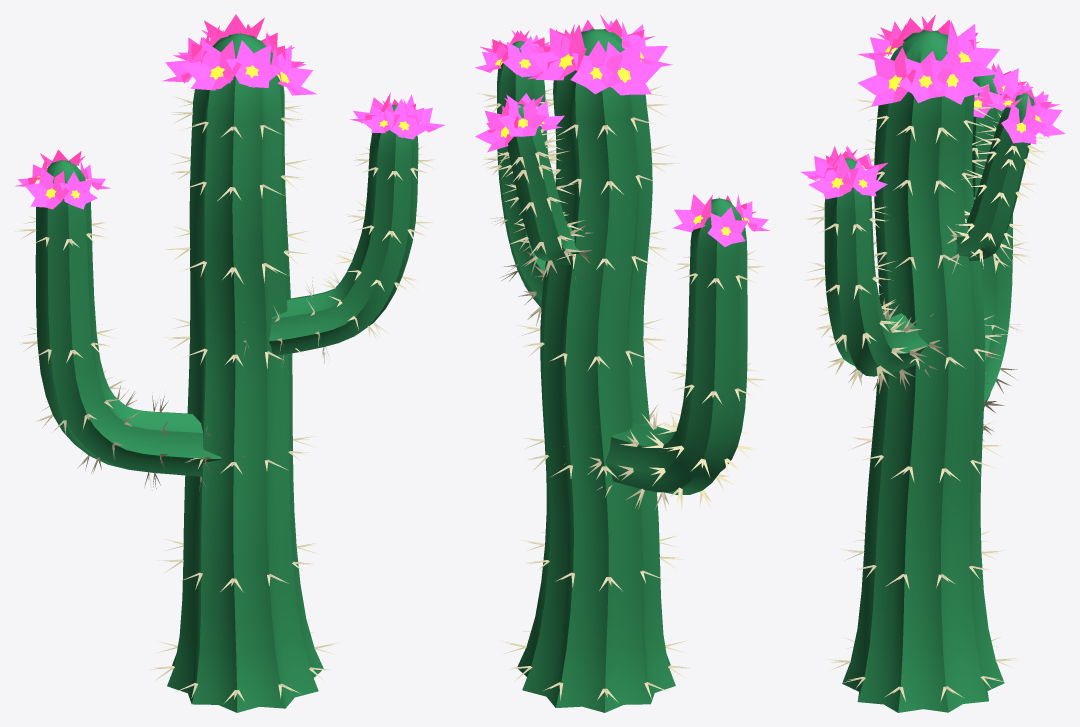
The model's file is cactus_c.glb.
3 views of the same model, side by side, from view 1: azimuth 30°, elevation 25°; view 2: azimuth 150°, elevation 25°; view 3: azimuth 270°, elevation 25° (orthographic).
Parts seen in each view (by area): view 1: cactus_c; view 2: cactus_c; view 3: cactus_c.
Boxes of the visible parts, x1,y1,x2,y2 form: cactus_c: [15, 14, 444, 712]; cactus_c: [475, 14, 770, 712]; cactus_c: [801, 14, 1065, 712].
Bounding box in the file's own units: 1.55 × 2.8 × 1.02.
